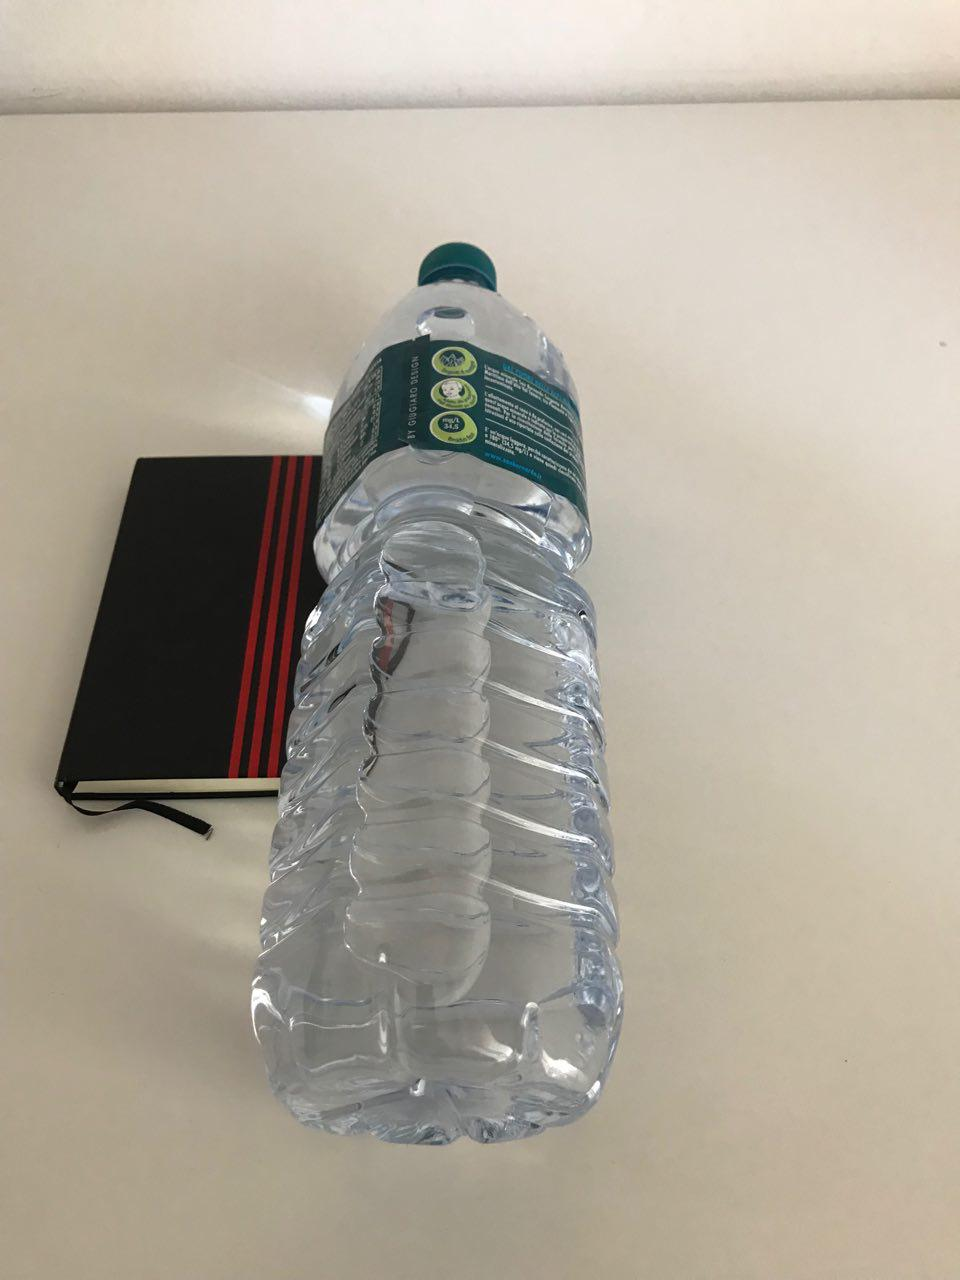san_bernardo: (246, 240, 627, 1149)
